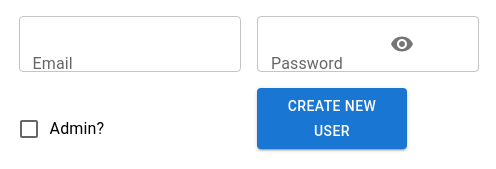
<CreateUserForm  createUser={() => {}} /> › submitting the form should clear the form inputs
Type "josh@josh.com" into the field with placeholder "Email" at (130, 44), box [18,16,241,72]
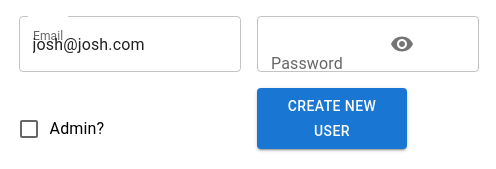
Type "test" into the password field with placeholder "password" at (288, 44), box [257,16,320,72]
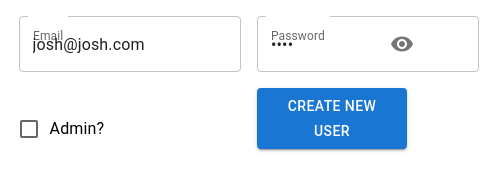
Click the checkbox labelled "Admin?" at (60, 129), box [16,117,104,141]
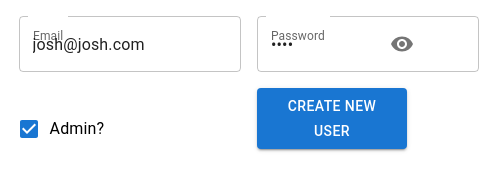
Now the checkbox labelled "Admin?" is checked, box [16,117,104,141]
Click the button "Create New User" at (332, 118), box [257,88,407,149]
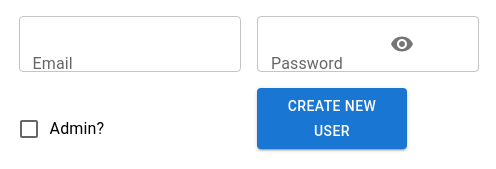
Now the checkbox labelled "Admin?" is not checked, box [16,117,104,141]
Now the field with placeholder "Email" is empty, box [18,16,241,72]
Now the password field with placeholder "password" is empty, box [257,16,320,72]
